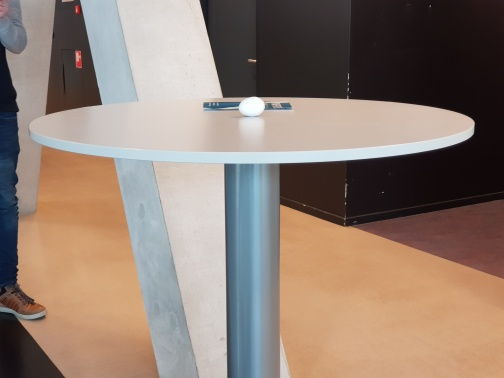egg: (236, 96, 266, 117)
